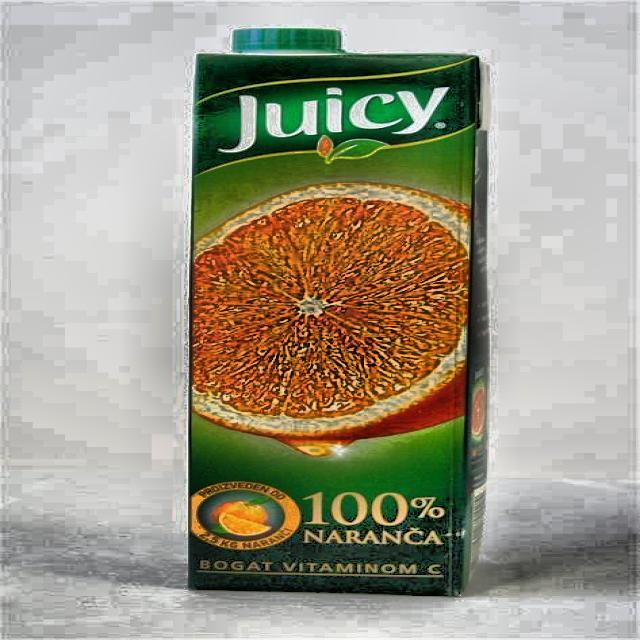cardboard: (187, 28, 490, 596)
